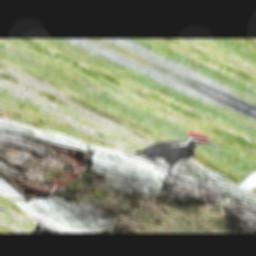Woodpecker: (130, 119, 228, 177)
